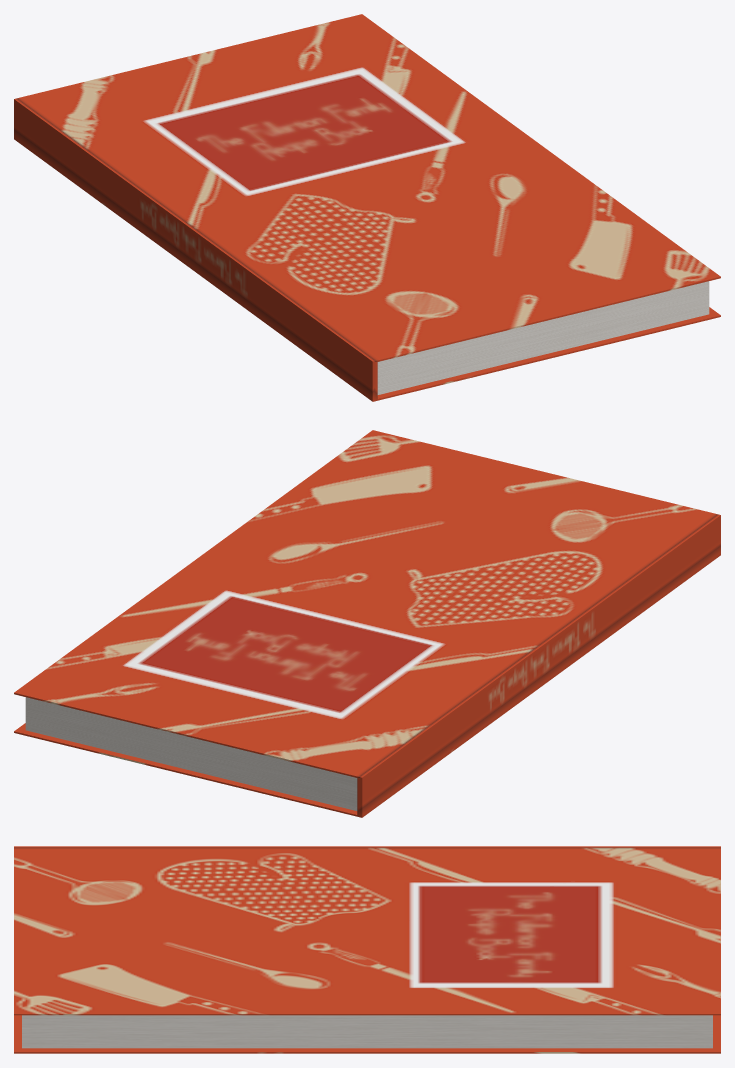
File: book_01.fbx
The picture shows the model from 3 angles, top to bottom: view 1: azimuth 30°, elevation 25°; view 2: azimuth 150°, elevation 25°; view 3: azimuth 270°, elevation 25°; orthographic projection.
Visible parts, largest first — view 1: book_01; view 2: book_01; view 3: book_01.
Boxes of the visible parts, x1,y1,x2,y2 form: book_01: [14, 14, 720, 401]; book_01: [14, 430, 720, 817]; book_01: [14, 846, 720, 1053].
Size of the model in its own units: 0.2397 by 0.0265 by 0.4279.
1 material, 1 textured.
